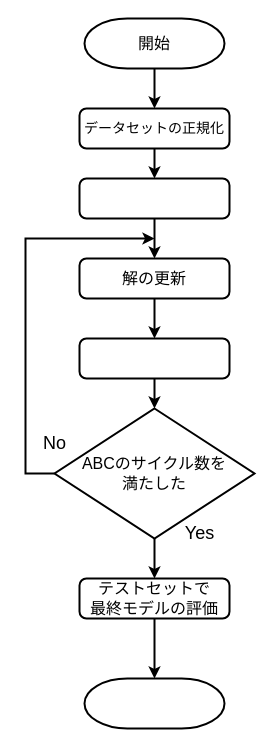
Image size: 272x746. Some labels were removed from this diagram. The shapes that lost their labels are listed below. From the top down, each one's centre as x and y in pixels, then its label:
At point 154,198: "解の初期化".
At point 154,358: "SVMの学習, 評価".
At point 154,703: "終了".
